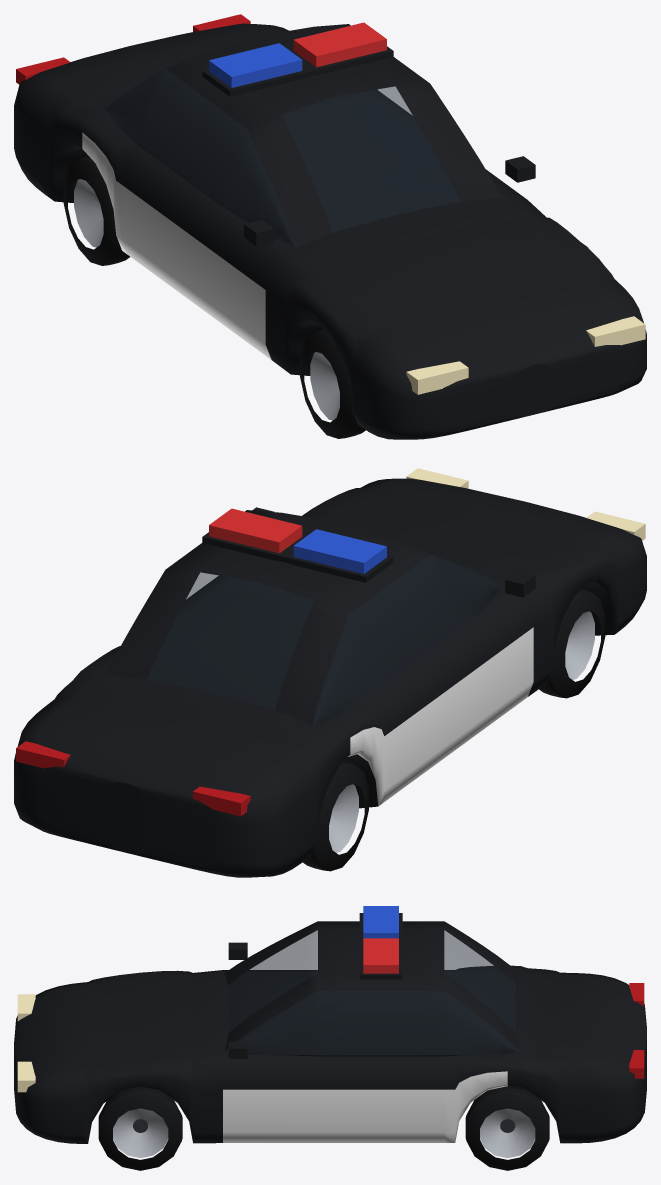
The model's file is mobile.glb.
3 renders of one model, top to bottom at view 1: azimuth 30°, elevation 25°; view 2: azimuth 150°, elevation 25°; view 3: azimuth 270°, elevation 25°, orthographic. The views are drawn at different scales.
Parts seen in each view (by area): view 1: body, glass, sirens, tyre_rr, tyre_fr, rim_rr, rim_fr, light_head_r, light_head_l; view 2: body, glass, sirens, tyre_rr, tyre_fr, rim_fr, rim_rr, light_brake_r, light_brake_l, light_head_r, light_head_l; view 3: body, glass, tyre_rl, tyre_fl, sirens, rim_rl, rim_fl, light_head_l, light_head_r, light_brake_l.
Part boxes in pixels (x1=…): body: x1=14, y1=23, x2=646, y2=439; glass: x1=106, y1=69, x2=459, y2=247; sirens: x1=209, y1=22, x2=386, y2=87; tyre_rr: x1=63, y1=156, x2=129, y2=265; tyre_fr: x1=300, y1=329, x2=365, y2=438; rim_rr: x1=74, y1=179, x2=103, y2=247; rim_fr: x1=310, y1=352, x2=339, y2=420; light_head_r: x1=406, y1=361, x2=468, y2=394; light_head_l: x1=586, y1=316, x2=645, y2=346; body: x1=14, y1=478, x2=646, y2=877; glass: x1=147, y1=555, x2=501, y2=724; sirens: x1=209, y1=508, x2=386, y2=573; tyre_rr: x1=302, y1=761, x2=368, y2=871; tyre_fr: x1=539, y1=589, x2=605, y2=698; rim_fr: x1=565, y1=611, x2=594, y2=679; rim_rr: x1=329, y1=784, x2=358, y2=852; light_brake_r: x1=193, y1=786, x2=250, y2=816; light_brake_l: x1=16, y1=741, x2=70, y2=768; light_head_r: x1=586, y1=511, x2=645, y2=540; light_head_l: x1=406, y1=468, x2=468, y2=488; body: x1=14, y1=913, x2=646, y2=1143; glass: x1=225, y1=930, x2=518, y2=1055; tyre_rl: x1=465, y1=1086, x2=549, y2=1170; tyre_fl: x1=98, y1=1086, x2=182, y2=1170; sirens: x1=363, y1=906, x2=398, y2=973; rim_rl: x1=480, y1=1108, x2=535, y2=1158; rim_fl: x1=113, y1=1108, x2=168, y2=1158; light_head_l: x1=17, y1=1061, x2=35, y2=1092; light_head_r: x1=17, y1=994, x2=35, y2=1021; light_brake_l: x1=629, y1=1050, x2=644, y2=1078.
Size of what is drawn, in the model's own units: 1.98 by 1.64 by 5.
